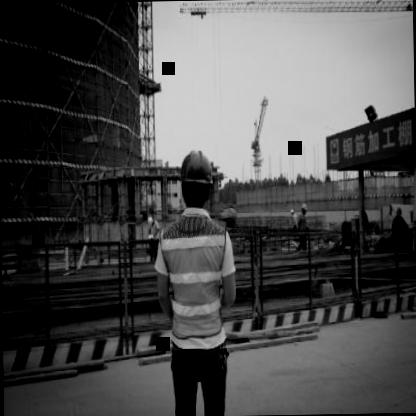helmet: (174, 146, 218, 209), (299, 200, 308, 218)
